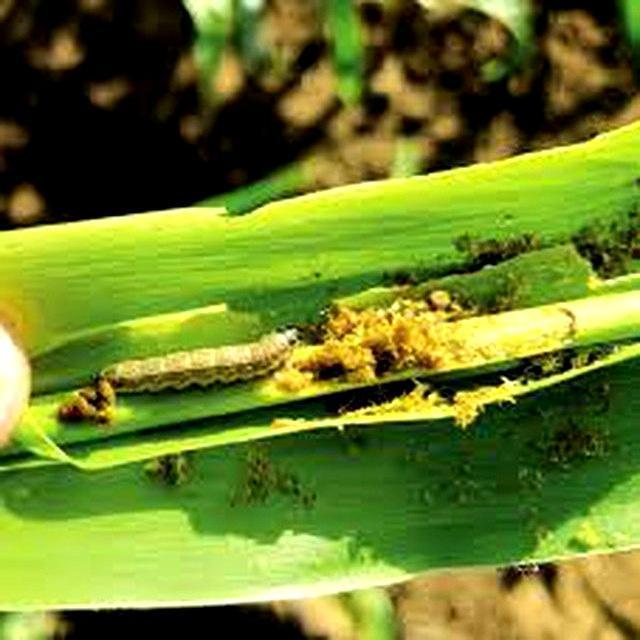gusano_cogollero: (94, 324, 302, 399)
